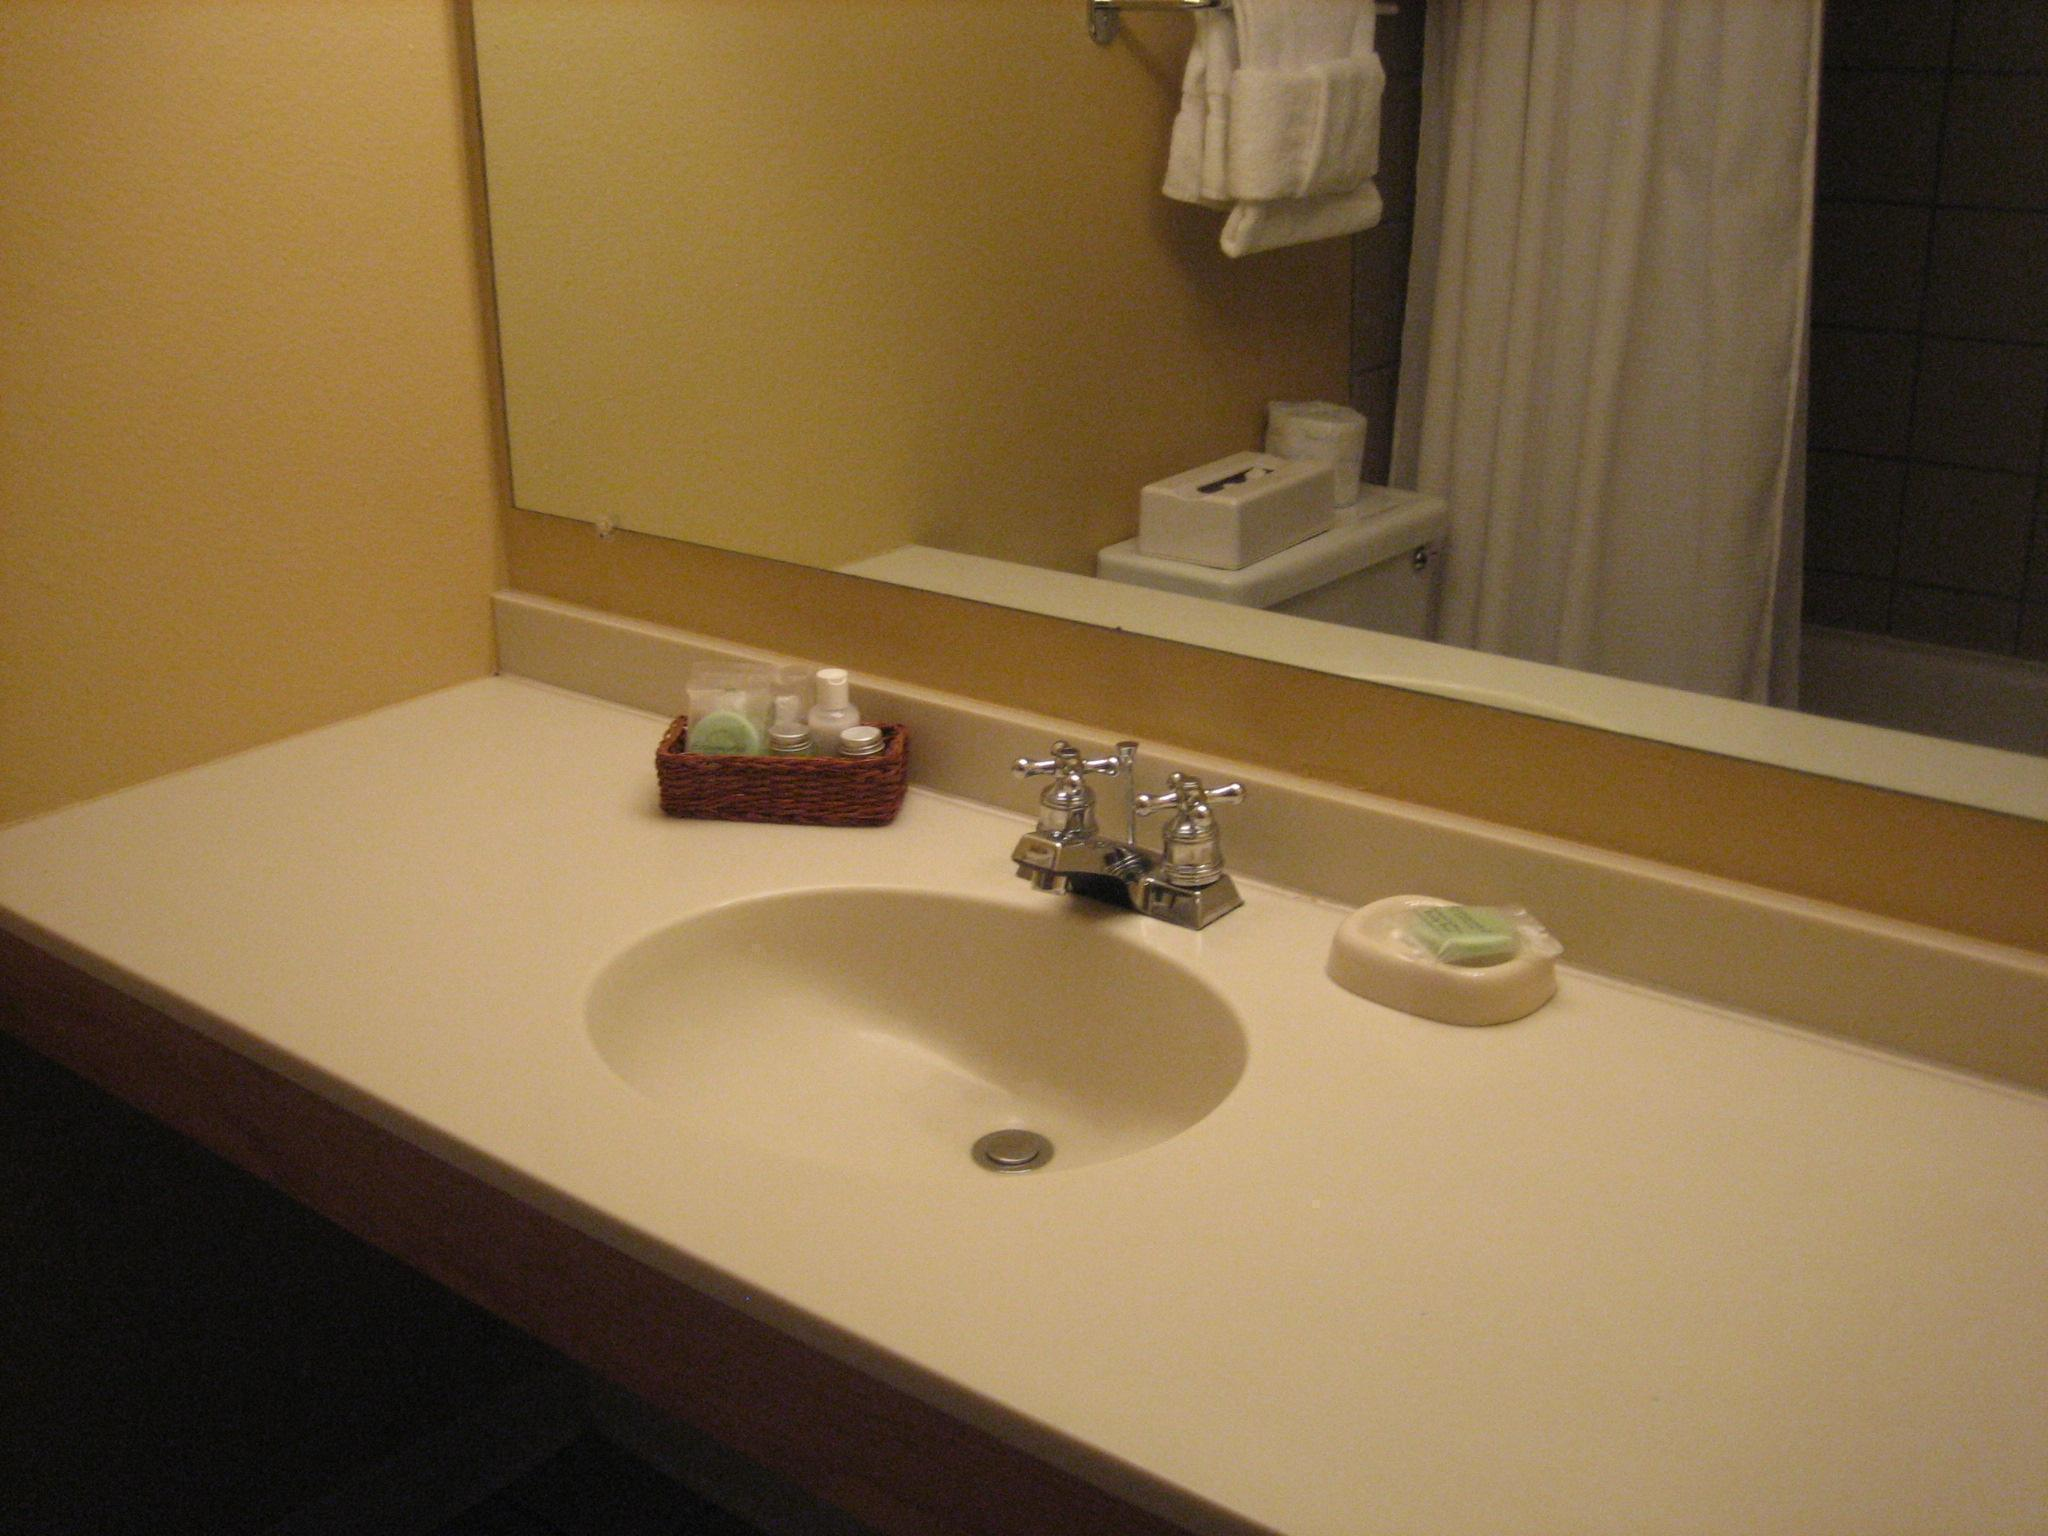Lavamanos: (540, 653, 1335, 1262)
